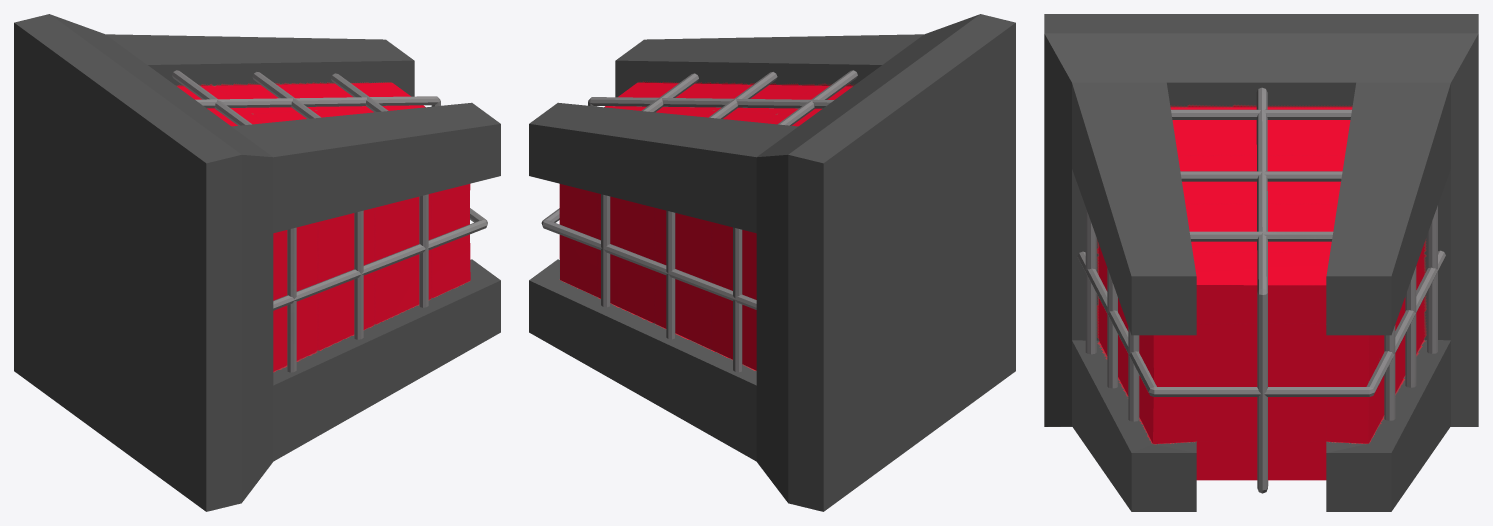
File: point light.obj
3 renders of one model, left to right at view 1: azimuth 30°, elevation 25°; view 2: azimuth 150°, elevation 25°; view 3: azimuth 270°, elevation 25°, orthographic. The views are drawn at different scales.
Parts seen in each view (by area): view 1: point_light_Cylinder.006_Cylinder.011; view 2: point_light_Cylinder.006_Cylinder.011; view 3: point_light_Cylinder.006_Cylinder.011.
Part boxes in pixels (box(x1,y1,x2,y2)): point_light_Cylinder.006_Cylinder.011: box(14, 14, 500, 511); point_light_Cylinder.006_Cylinder.011: box(529, 14, 1015, 511); point_light_Cylinder.006_Cylinder.011: box(1044, 14, 1478, 511).
Bounding box in the file's own units: 0.8 × 0.8 × 0.8.
